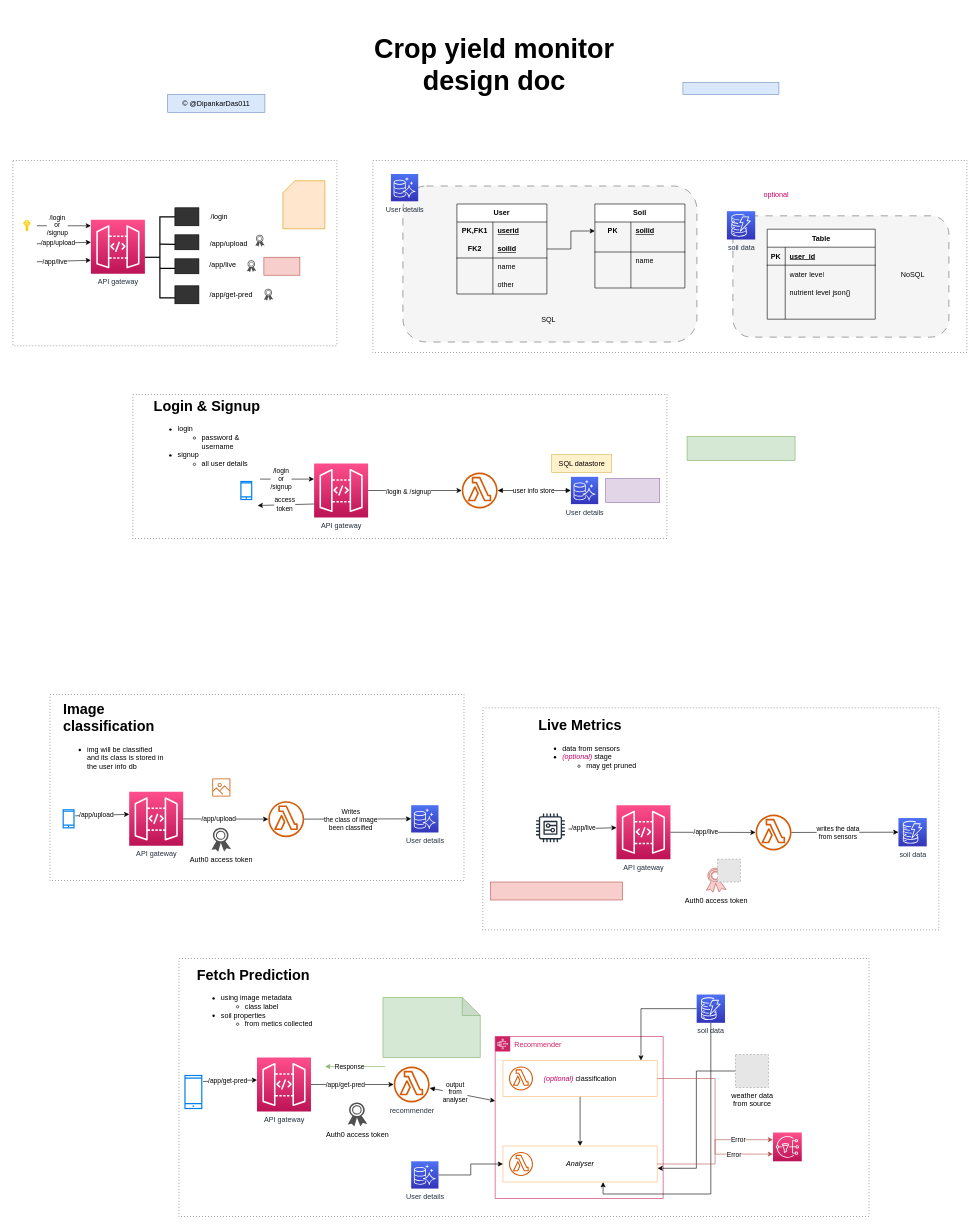
This 977x1227 diagram has some shape labels left out. Grey dashed boxes stand in for pictures. Here are the shapes that lost their labels. From the top down, the centre of each, then its label:
(730,88): %date{ddd mmm dd yyyy HH:MM:ss}%
(303,204): /app/** requires token access
(281,266): TBD
(740,448): More info about access token Refer
(479,490): user registration & login
(632,490): UserID (primary key)
(221,787): img as payload
(286,819): image classifier
(550,827): Soil moisture & Soil mineral
(773,832): metrics transformer
(556,890): which auth to use for Secure conn??
(431,1027): invokes the step function formates the response from analyser
(787,1146): IT team for raising tickets & subsequent reponse of sutable error
